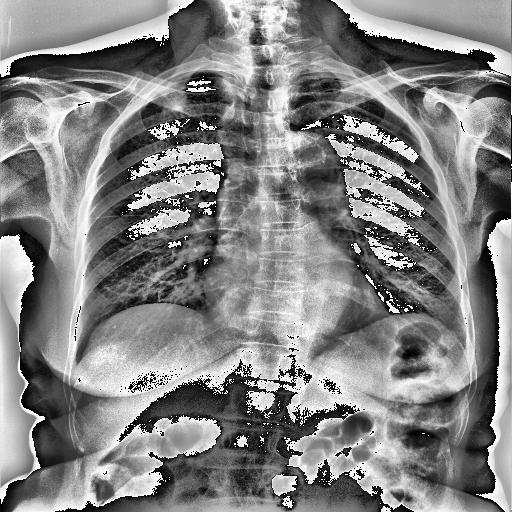0- Aortic enlargement: (268, 130, 346, 208), (262, 129, 346, 199), (286, 131, 346, 188)
11- Pleural thickening: (150, 72, 242, 94), (294, 68, 368, 84), (300, 70, 360, 82), (172, 68, 234, 78)
